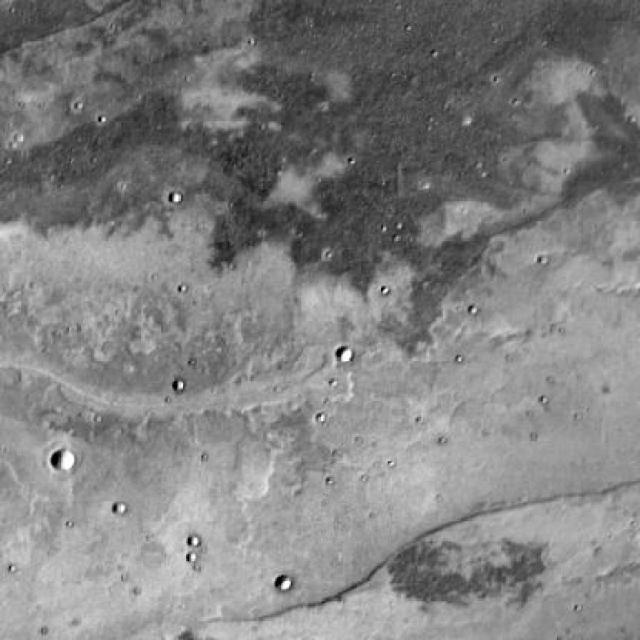crater: (53, 449, 76, 469)
